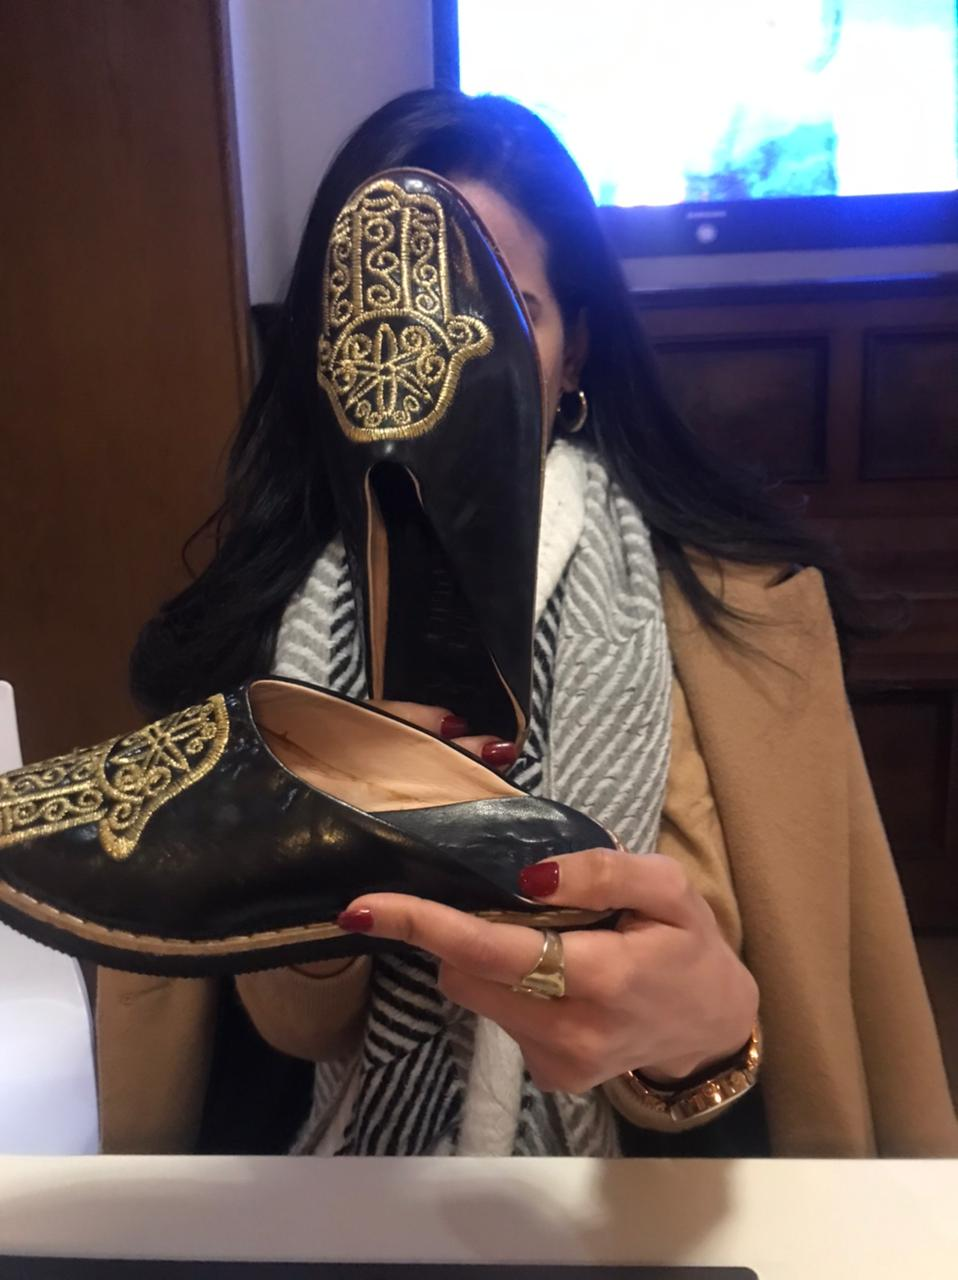balgha: (17, 646, 645, 981), (311, 169, 540, 723)
